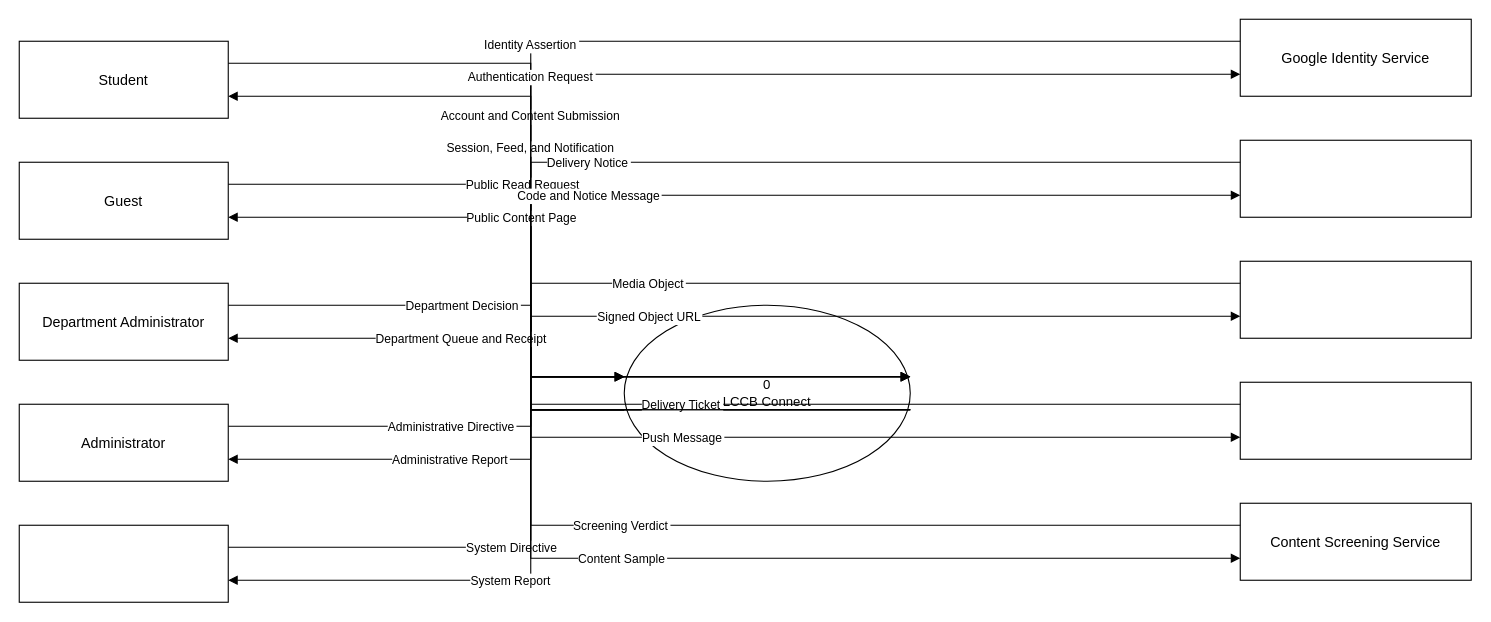
This 1491x622 diagram has some shape labels left out. The centre of each missing label's shape, as x and y in pixels:
"Email Delivery Service" goes at (1355,178).
"Object Storage" goes at (1355,299).
"Push Delivery Service" goes at (1355,420).
"Super Administrator" goes at (123,563).
